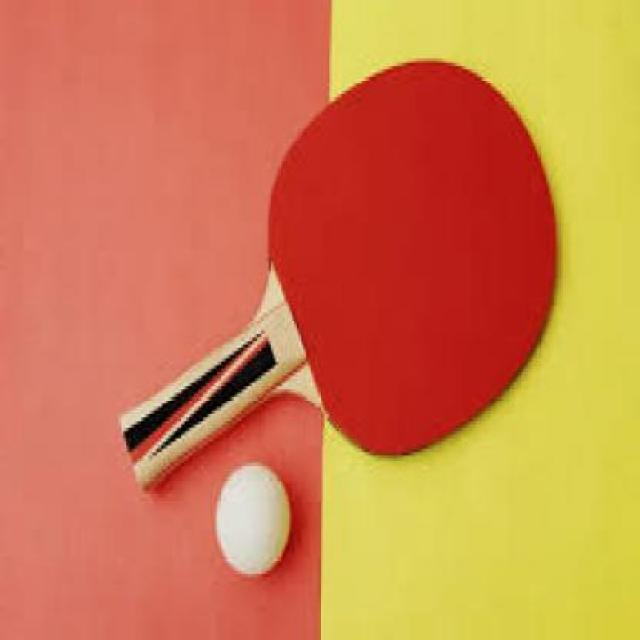table_tennis_racket: (115, 60, 556, 491)
